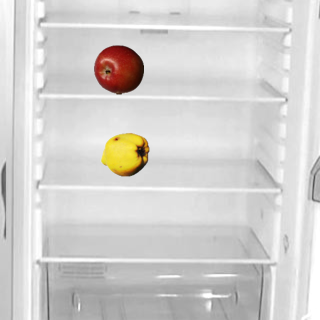Apple Braeburn: (93, 44, 143, 94)
Quince: (99, 129, 149, 179)
